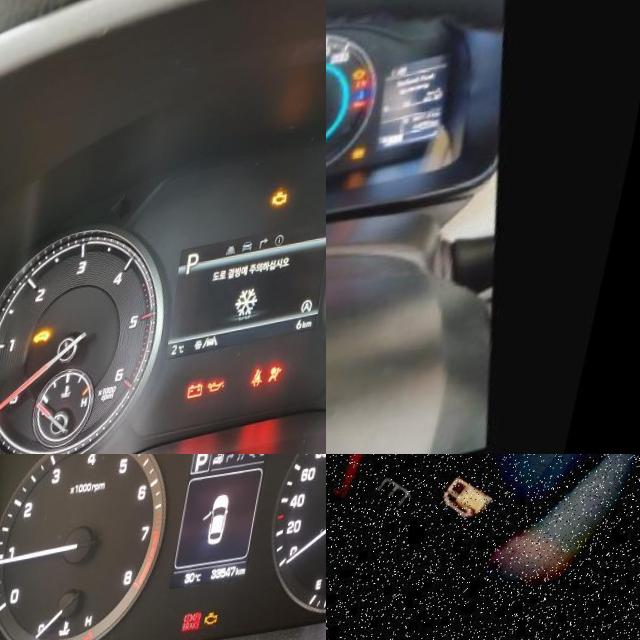Engine cooling system: (362, 98, 375, 112)
